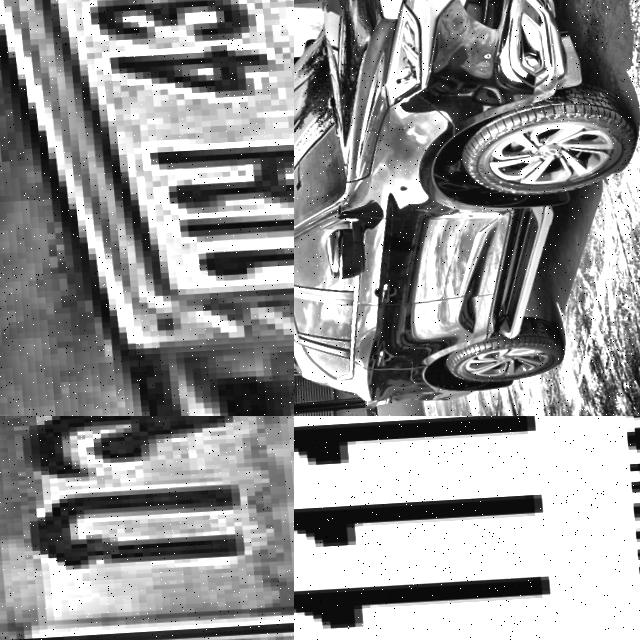license-plate: (0, 0, 294, 400), (294, 416, 640, 640), (0, 416, 294, 640)
